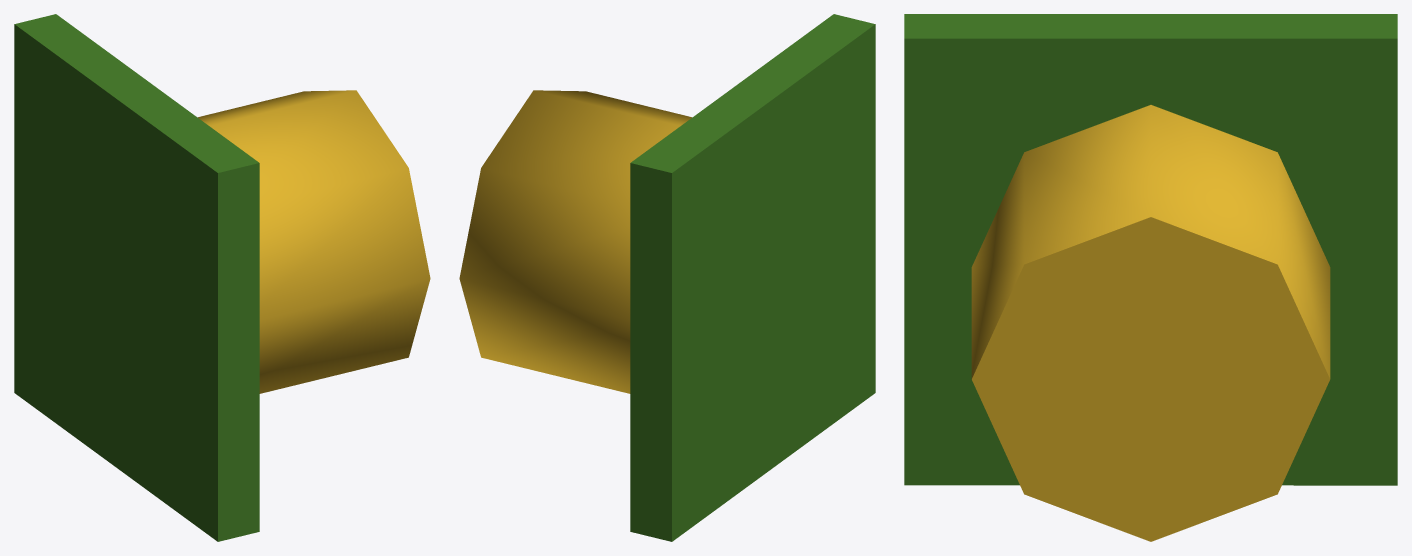
Rendered from dynament_gold.dae.
3 renders of one model, left to right at view 1: azimuth 30°, elevation 25°; view 2: azimuth 150°, elevation 25°; view 3: azimuth 270°, elevation 25°, orthographic. The views are drawn at different scales.
Visible parts, largest first — view 1: Plane; view 2: Plane; view 3: Plane.
Boxes of the visible parts, <box> form: Plane: <box>14,14,430,541</box>; Plane: <box>459,14,875,541</box>; Plane: <box>904,14,1397,541</box>.
Bounding box in the file's own units: 0.015 × 0.022 × 0.022.
